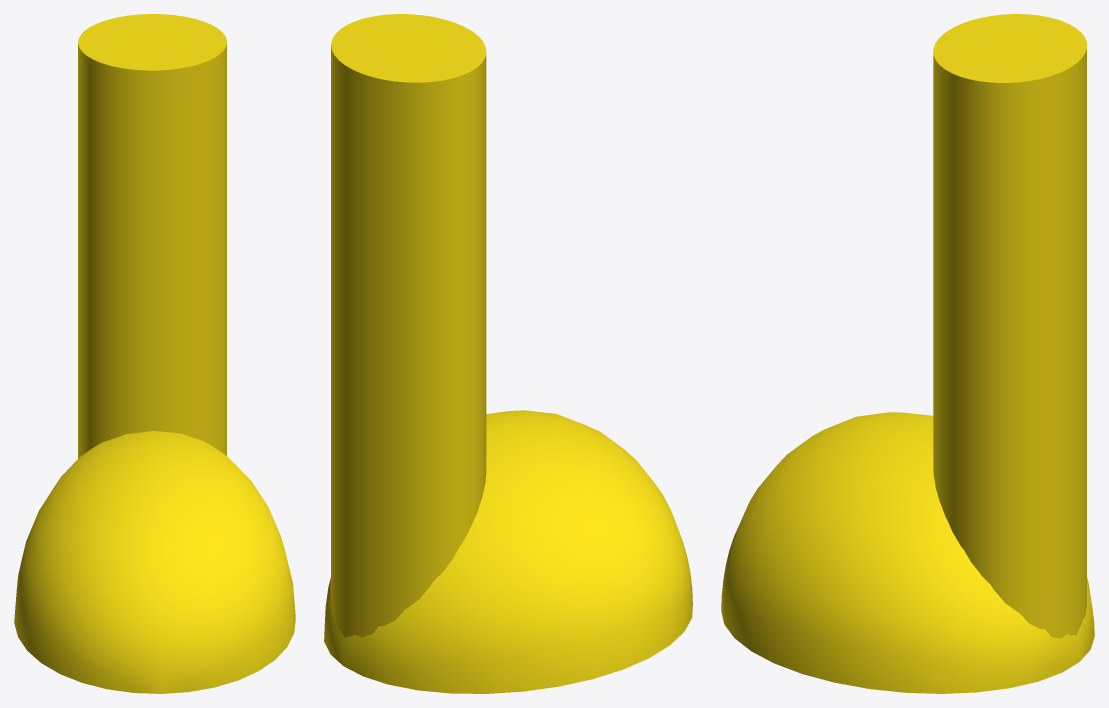
The model's file is pataD_TC.obj.
The picture shows the model from 3 angles, left to right: view 1: azimuth 30°, elevation 25°; view 2: azimuth 150°, elevation 25°; view 3: azimuth 270°, elevation 25°; orthographic projection. The views are drawn at different scales.
Visible parts, largest first — view 1: pata_d; view 2: pata_d; view 3: pata_d.
Boxes of the visible parts, x1=… form: pata_d: x1=14, y1=14, x2=295, y2=693; pata_d: x1=324, y1=14, x2=692, y2=693; pata_d: x1=721, y1=14, x2=1094, y2=693.
Size of the model in its own units: 1.91 by 3.78 by 2.14.
